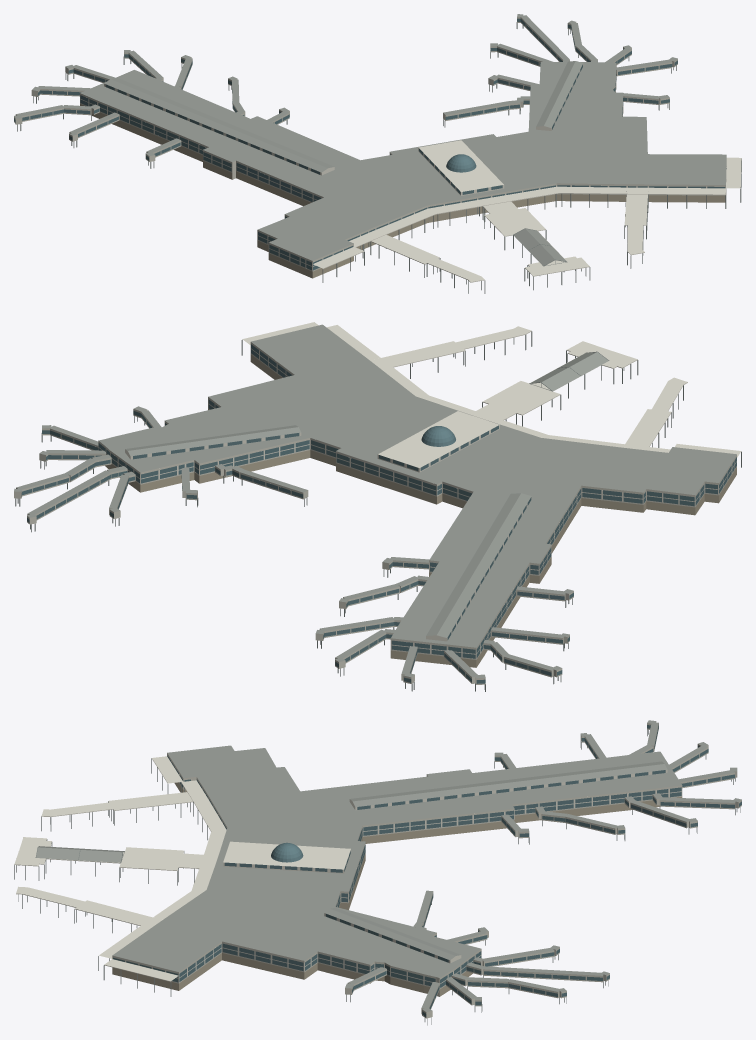
File: charleston-international-airport-terminal-far.glb
3 views of the same model, one above another, from view 1: azimuth 30°, elevation 25°; view 2: azimuth 150°, elevation 25°; view 3: azimuth 270°, elevation 25° (orthographic). The views are drawn at different scales.
Parts seen in each view (by area): view 1: charleston-international-airport-terminal-0-roof, charleston-international-airport-terminal-0-trim, charleston-international-airport-terminal-0-glass, charleston-international-airport-terminal-0-wall, charleston-international-airport-terminal-0-base, charleston-international-airport-terminal-0-steel; view 2: charleston-international-airport-terminal-0-roof, charleston-international-airport-terminal-0-trim, charleston-international-airport-terminal-0-glass, charleston-international-airport-terminal-0-wall, charleston-international-airport-terminal-0-base, charleston-international-airport-terminal-0-steel; view 3: charleston-international-airport-terminal-0-roof, charleston-international-airport-terminal-0-trim, charleston-international-airport-terminal-0-glass, charleston-international-airport-terminal-0-wall, charleston-international-airport-terminal-0-base, charleston-international-airport-terminal-0-steel.
Part boxes in pixels (x1,y1,x2,y2): charleston-international-airport-terminal-0-roof: [14, 14, 726, 265]; charleston-international-airport-terminal-0-trim: [80, 64, 741, 282]; charleston-international-airport-terminal-0-glass: [14, 18, 726, 270]; charleston-international-airport-terminal-0-wall: [14, 17, 726, 271]; charleston-international-airport-terminal-0-base: [80, 83, 726, 278]; charleston-international-airport-terminal-0-steel: [17, 22, 741, 293]; charleston-international-airport-terminal-0-roof: [14, 324, 736, 678]; charleston-international-airport-terminal-0-trim: [98, 322, 741, 658]; charleston-international-airport-terminal-0-glass: [21, 344, 736, 683]; charleston-international-airport-terminal-0-wall: [14, 342, 736, 684]; charleston-international-airport-terminal-0-base: [105, 354, 736, 667]; charleston-international-airport-terminal-0-steel: [15, 331, 741, 691]; charleston-international-airport-terminal-0-roof: [36, 720, 741, 1012]; charleston-international-airport-terminal-0-trim: [14, 755, 682, 987]; charleston-international-airport-terminal-0-glass: [113, 725, 741, 1016]; charleston-international-airport-terminal-0-wall: [112, 721, 741, 1018]; charleston-international-airport-terminal-0-base: [112, 782, 682, 996]; charleston-international-airport-terminal-0-steel: [14, 729, 740, 1025].
Bounding box in the file's own units: 305 × 16.72 × 322.
